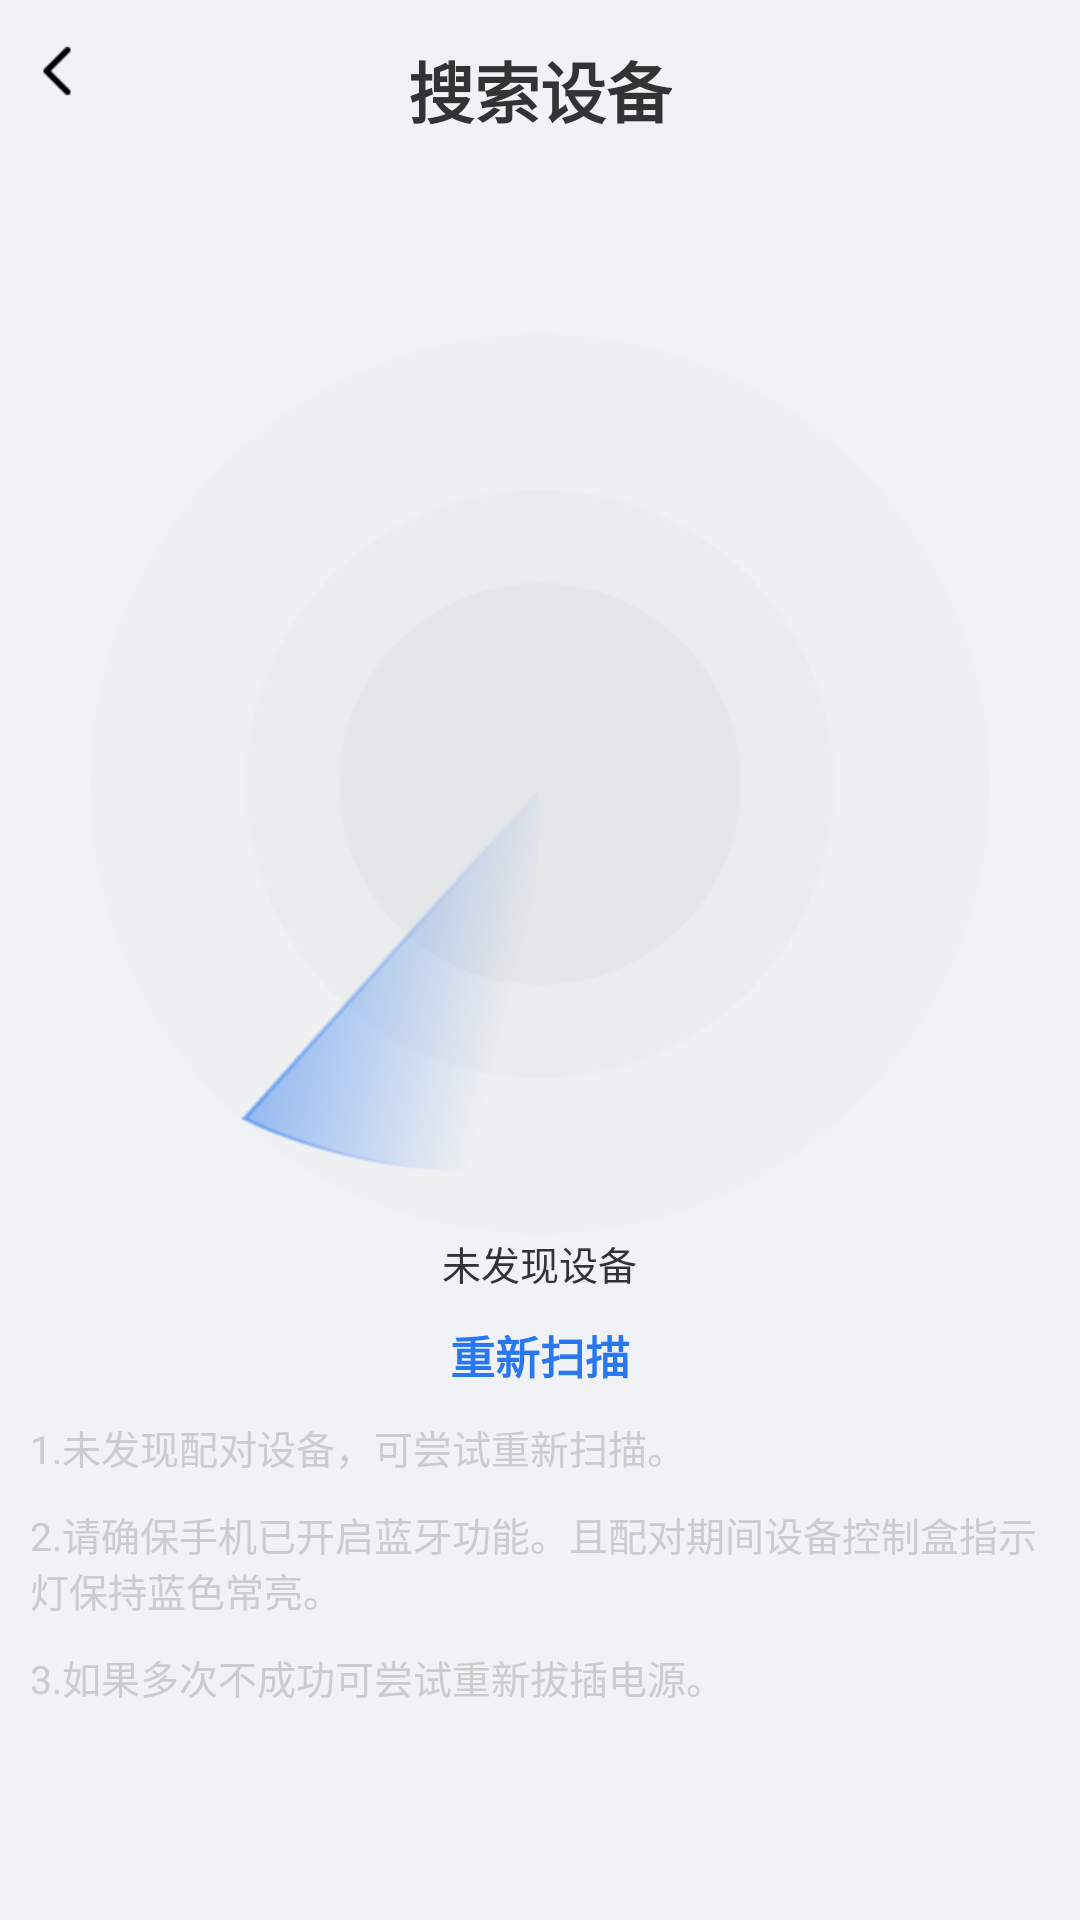

Screen size 1080x1920. Icon name, then its box in pixels as (x1, y1, x2, y2):
back: (43, 46, 71, 96)
